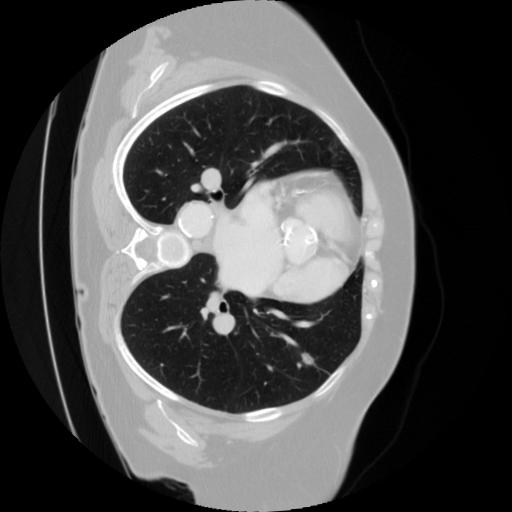nodule: (300, 352, 318, 370)
